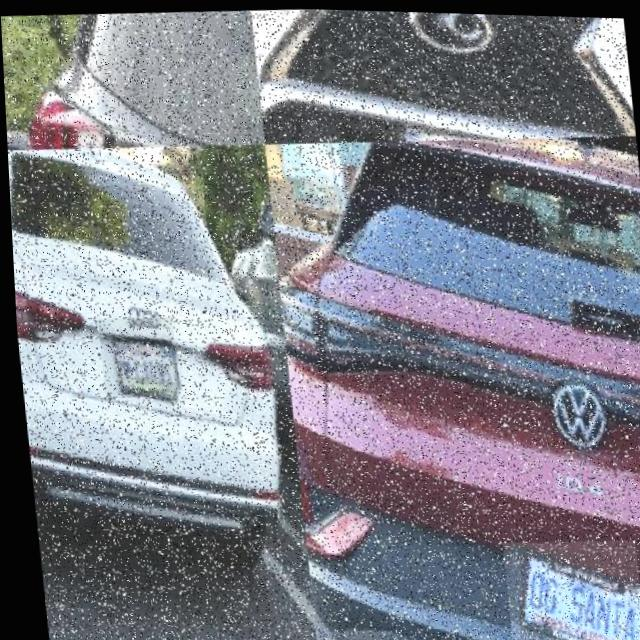LicensePlate: (504, 541, 633, 640), (94, 314, 177, 399)
